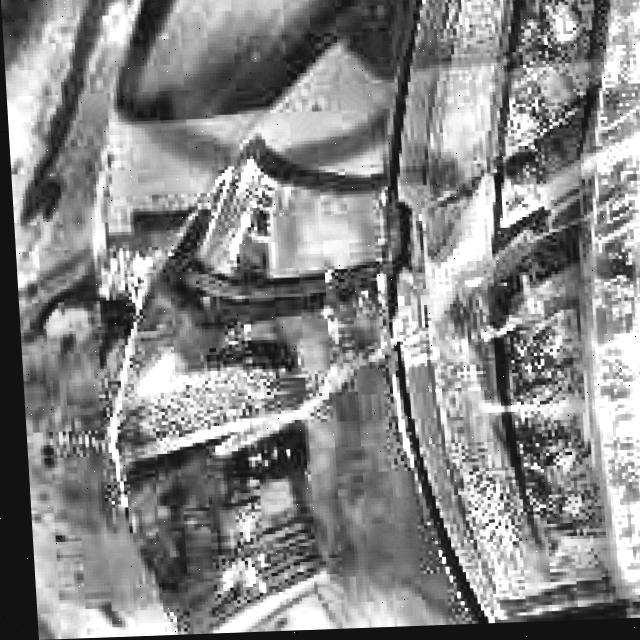tail_lamp: (409, 162, 616, 337)
